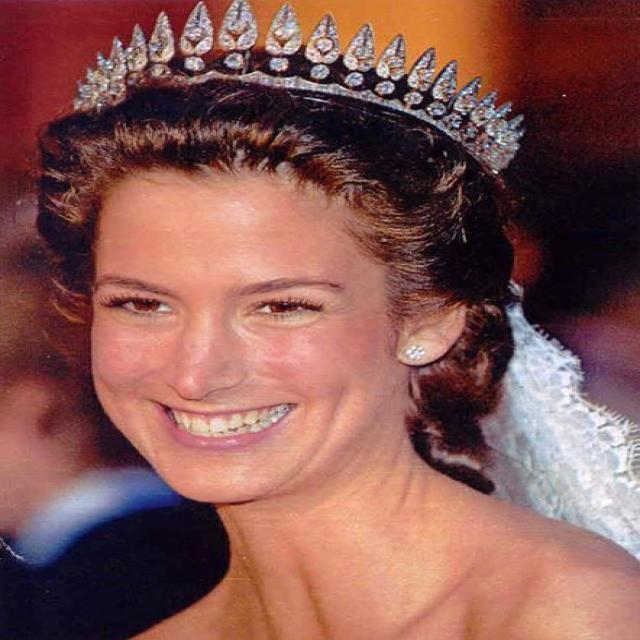Earring: (396, 336, 432, 374)
